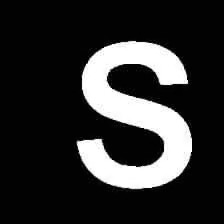LTR_S: (69, 33, 201, 195)
